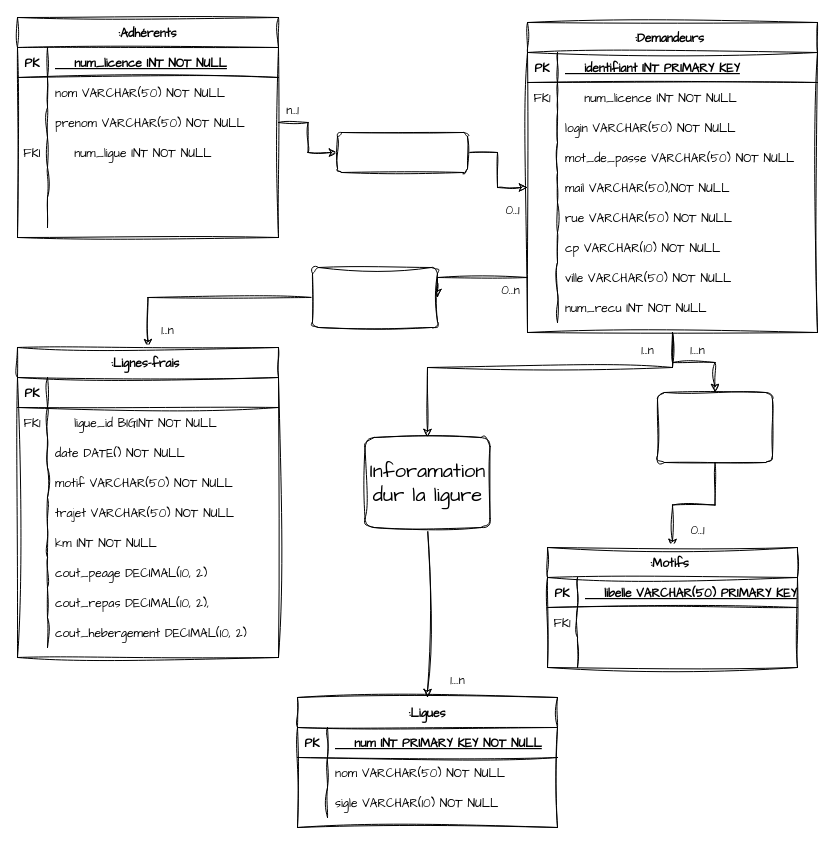
Image size: 835x845. Some labels were removed from this diagram. The shapes that lost their labels are listed below. From the top down, each one's centre as x and y in pixels, then its label:
At (x=402, y=152): "Inscription".
At (x=375, y=297): "Infos de Borderau".
At (x=714, y=427): "Motif du Formulaire".
